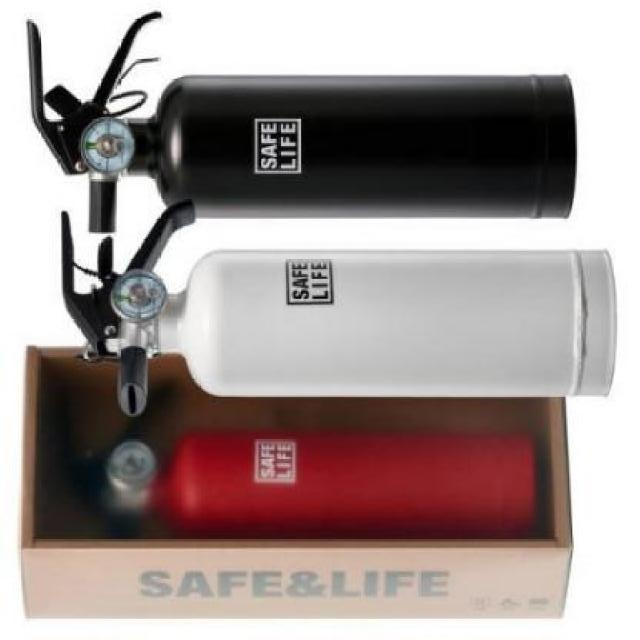fire extinguisher: (26, 10, 577, 235), (59, 198, 618, 419)
